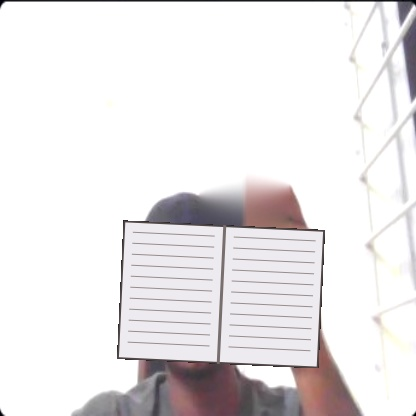book: (117, 220, 325, 368)
